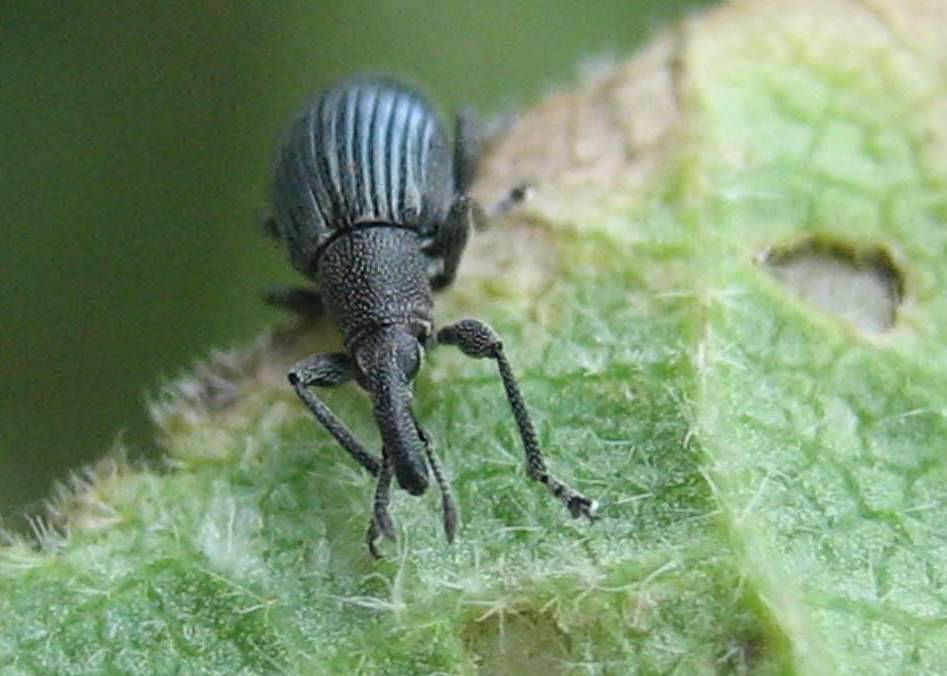dolgonosik: (255, 62, 600, 566)
